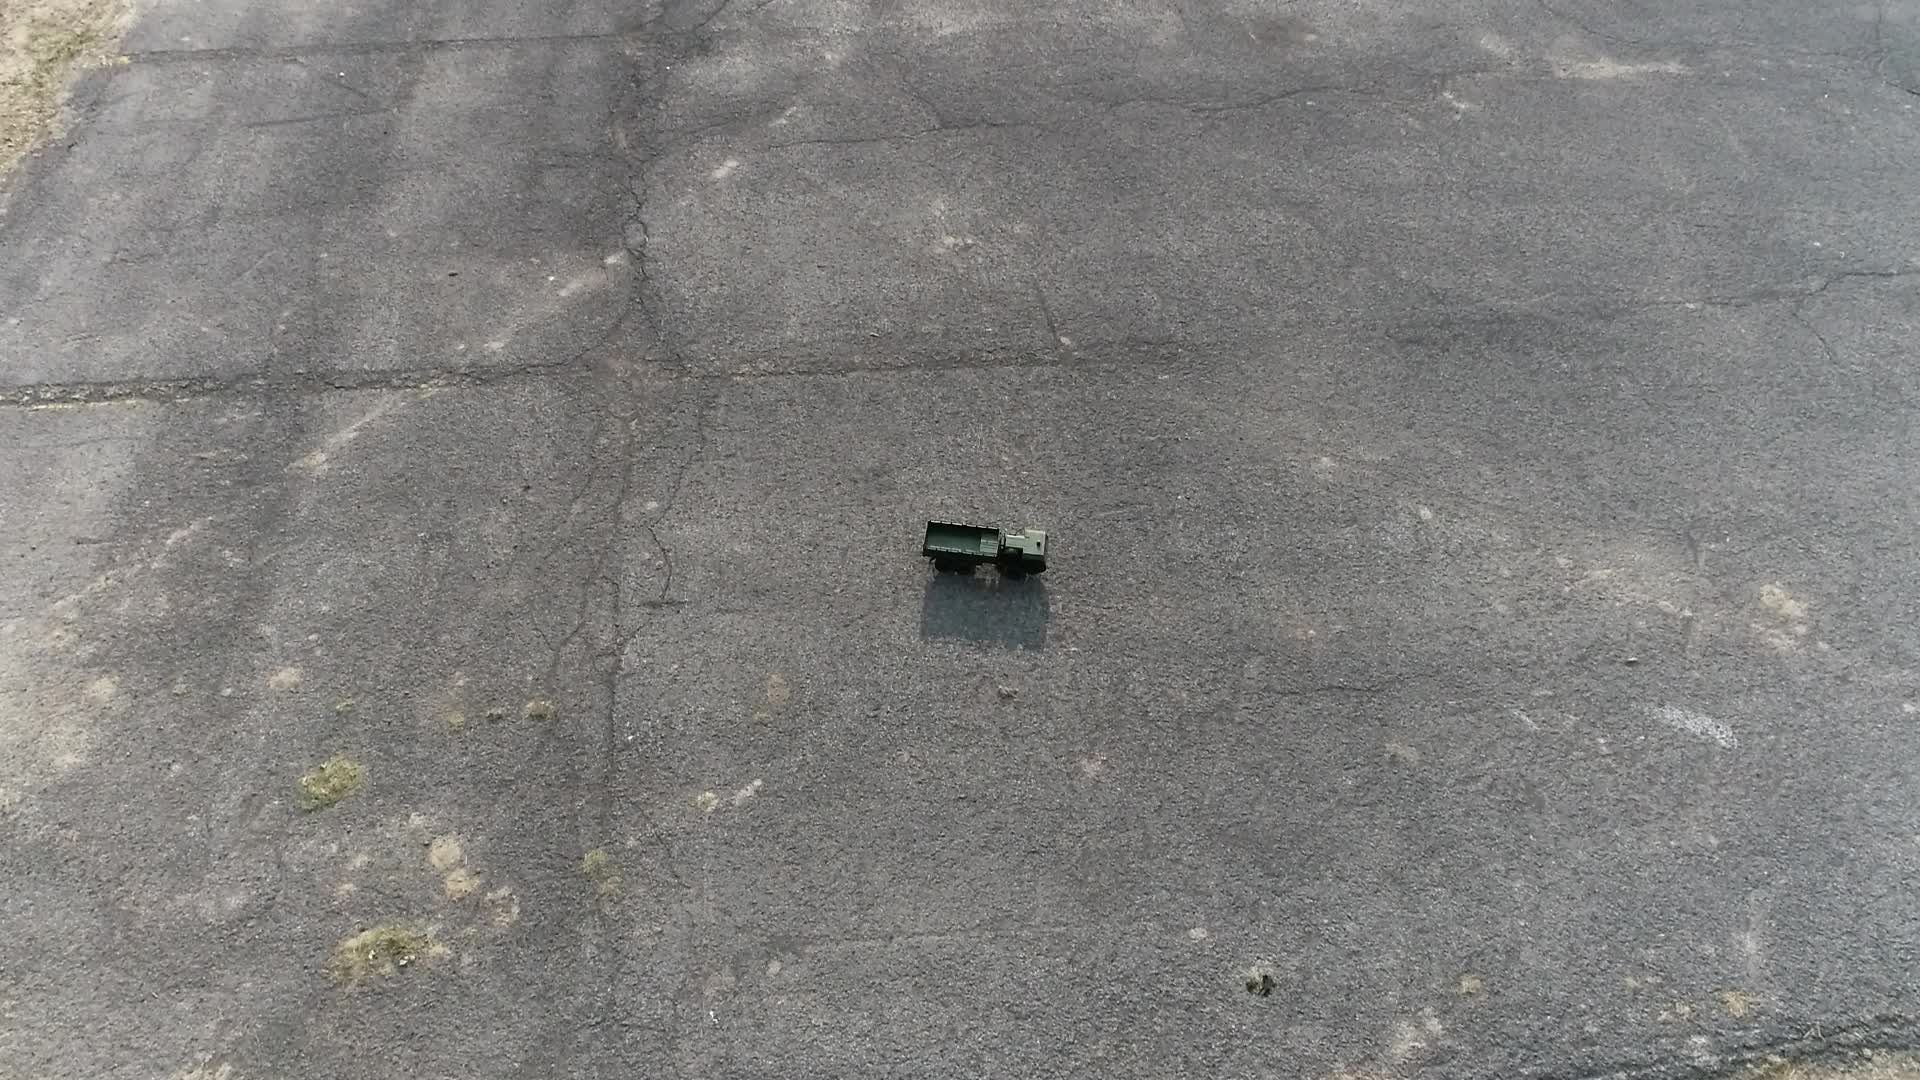transporter9: (914, 516, 1054, 583)
